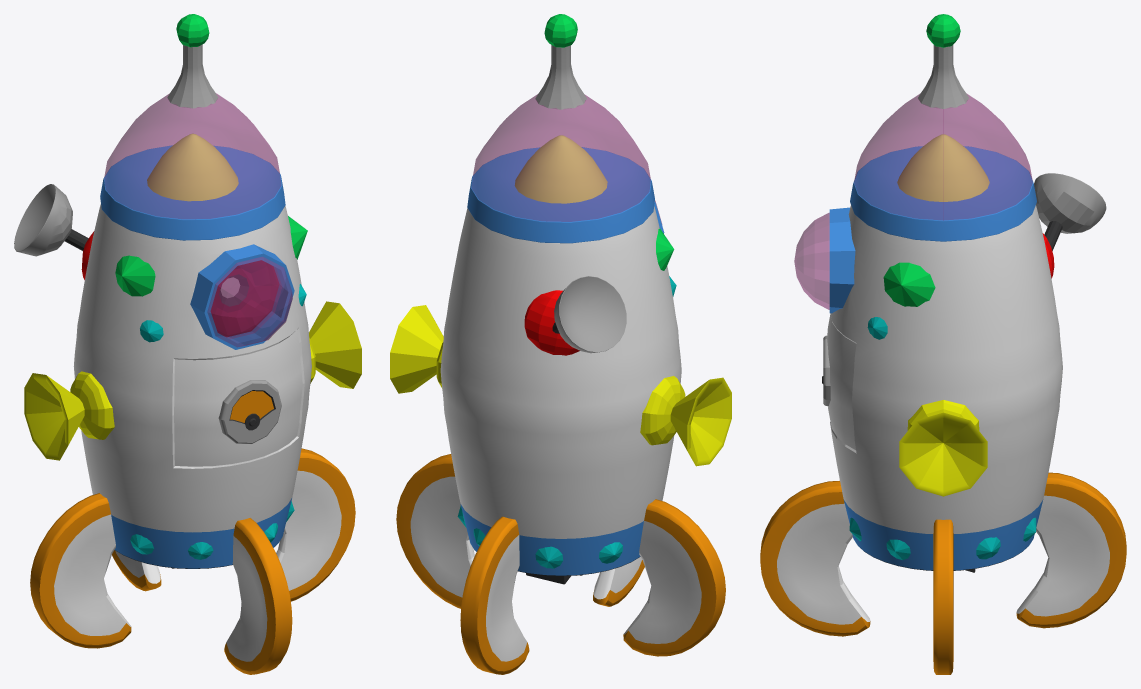
The model's file is AE_SSDolphin_017.fbx.
The picture shows the model from 3 angles, left to right: view 1: azimuth 30°, elevation 25°; view 2: azimuth 150°, elevation 25°; view 3: azimuth 270°, elevation 25°; orthographic projection.
Visible parts, largest first — view 1: SS_Dolphin1; view 2: SS_Dolphin1; view 3: SS_Dolphin1.
Part boxes in pixels (<box>): SS_Dolphin1: <box>14,14,361,674</box>; SS_Dolphin1: <box>390,14,731,674</box>; SS_Dolphin1: <box>760,14,1126,674</box>.
Bounding box in the file's own units: 401 × 747 × 401.
